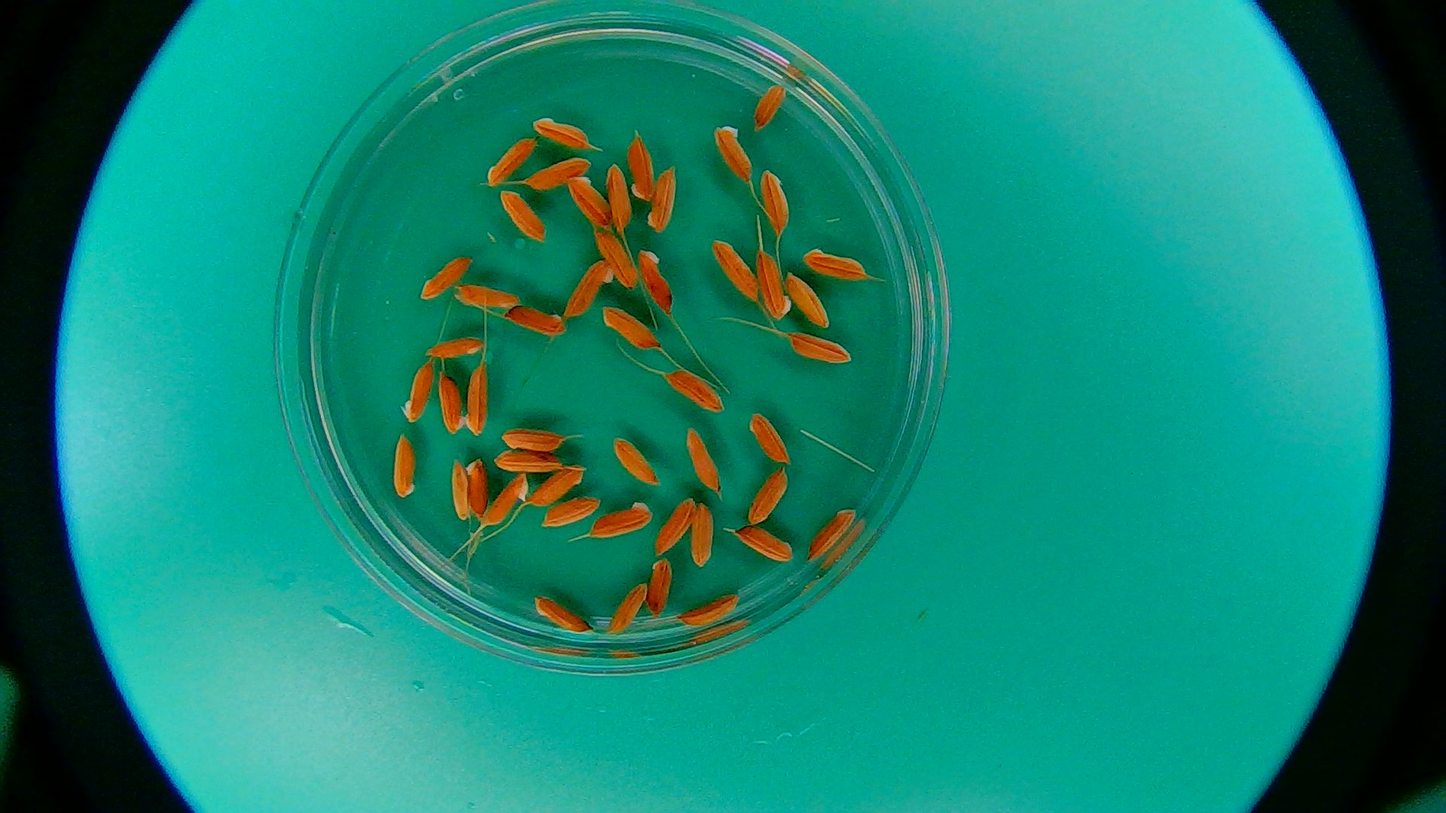no: (712, 239, 758, 304), (486, 130, 537, 187), (602, 306, 660, 353), (755, 249, 792, 321), (663, 370, 722, 415), (807, 507, 855, 561), (565, 259, 611, 315), (499, 189, 546, 242), (747, 467, 789, 526), (711, 124, 752, 184), (590, 501, 653, 540), (683, 426, 721, 490), (787, 273, 830, 328), (531, 596, 593, 634), (568, 175, 609, 232), (596, 232, 636, 290), (612, 436, 659, 485), (484, 475, 529, 526), (419, 254, 471, 297), (656, 499, 695, 556), (802, 247, 867, 281), (759, 167, 792, 232), (788, 331, 851, 364), (747, 413, 788, 463), (642, 250, 674, 314), (735, 528, 795, 562), (607, 583, 648, 632), (679, 593, 739, 626), (628, 126, 655, 199), (529, 158, 590, 190), (532, 117, 594, 148), (506, 306, 563, 339), (532, 469, 585, 504), (403, 362, 433, 423), (648, 170, 677, 233), (545, 497, 601, 528), (464, 364, 488, 436), (437, 373, 464, 436), (392, 436, 419, 499), (606, 163, 630, 233), (455, 284, 519, 310), (752, 85, 786, 131), (692, 504, 716, 568), (492, 452, 565, 473), (500, 428, 566, 451), (647, 559, 672, 616), (424, 336, 486, 358), (468, 458, 490, 518), (450, 459, 470, 521)
